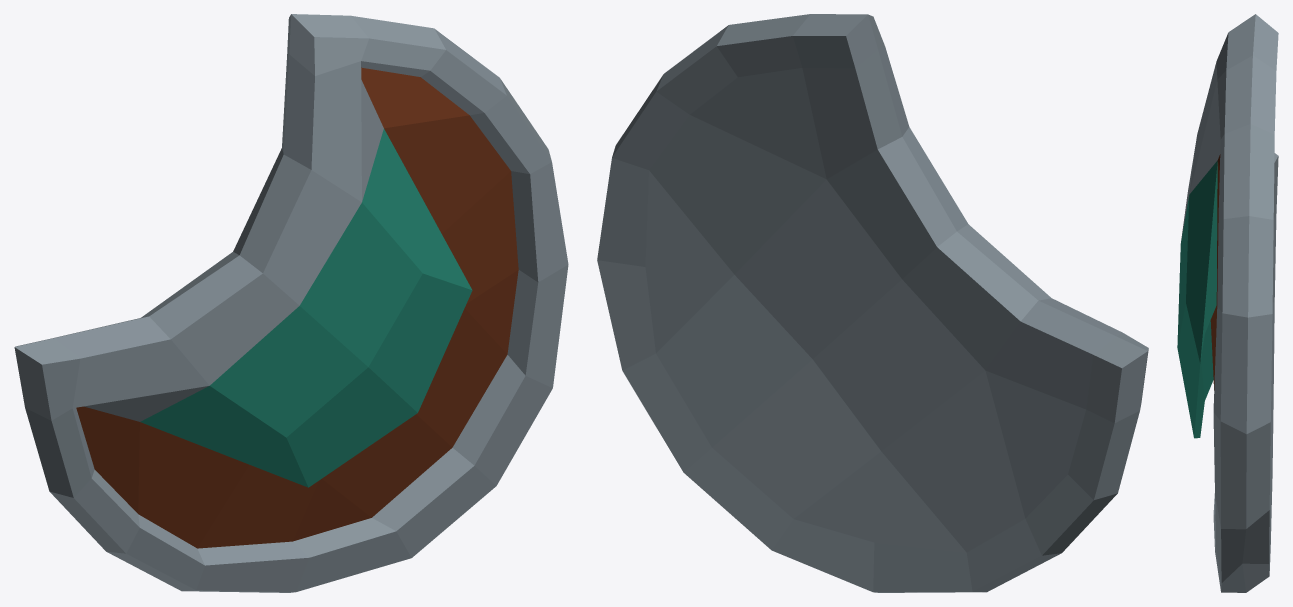
Rendered from Halfmoon.fbx.
The picture shows the model from 3 angles, left to right: view 1: azimuth 30°, elevation 25°; view 2: azimuth 150°, elevation 25°; view 3: azimuth 270°, elevation 25°; orthographic projection. The views are drawn at different scales.
Visible parts, largest first — view 1: HalfMoon; view 2: HalfMoon; view 3: HalfMoon.
Part boxes in pixels (bbox=[...]): HalfMoon: bbox=[14, 14, 568, 592]; HalfMoon: bbox=[597, 14, 1148, 592]; HalfMoon: bbox=[1177, 14, 1278, 592].
Size of the model in its own units: 83.66 by 83.89 by 14.04.
